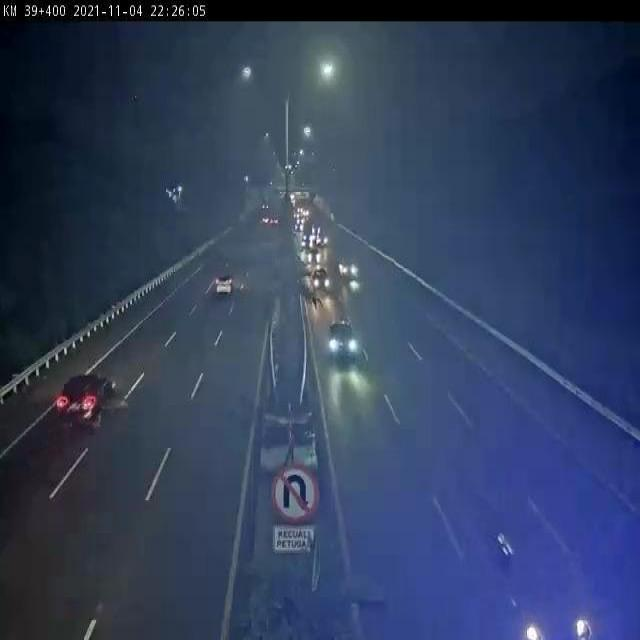car: (482, 498, 606, 640), (69, 362, 118, 442), (328, 307, 370, 388), (218, 260, 237, 315), (338, 257, 364, 279), (317, 267, 330, 296)
